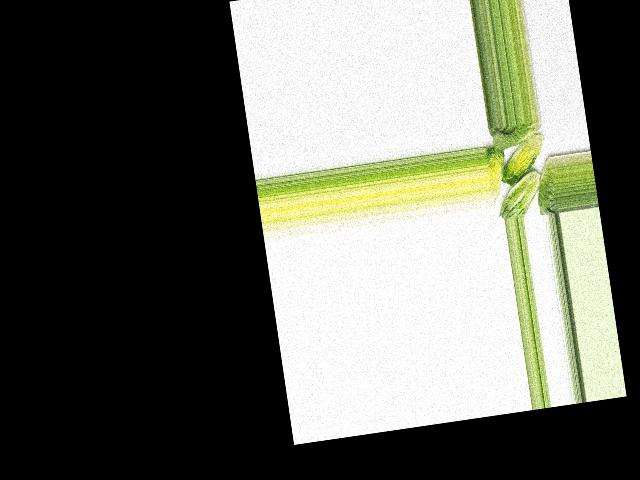lettuce: (488, 120, 542, 153)
